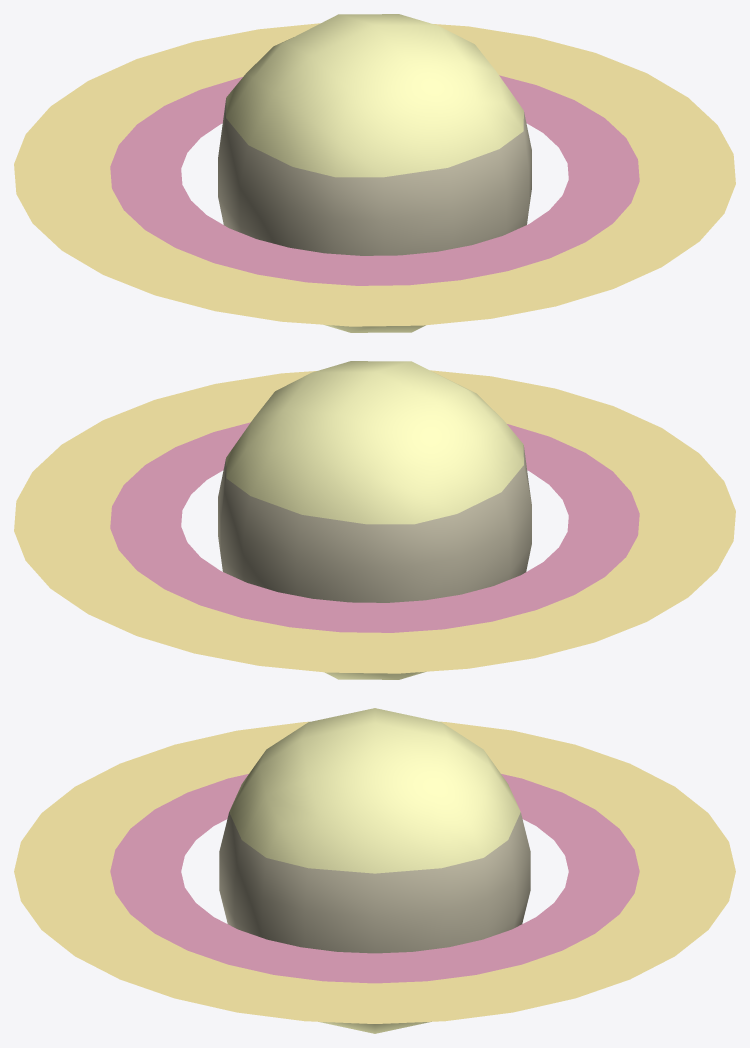
The model's file is SM_Planet_Ringed_02.fbx.
The picture shows the model from 3 angles, top to bottom: view 1: azimuth 30°, elevation 25°; view 2: azimuth 150°, elevation 25°; view 3: azimuth 270°, elevation 25°; orthographic projection.
Parts seen in each view (by area): view 1: SM_Planet_Ringed_02; view 2: SM_Planet_Ringed_02; view 3: SM_Planet_Ringed_02.
Part boxes in pixels (left/top/right/bottom): SM_Planet_Ringed_02: left=14, top=14, right=735, bottom=332; SM_Planet_Ringed_02: left=14, top=361, right=735, bottom=679; SM_Planet_Ringed_02: left=14, top=708, right=735, bottom=1033.
Bounding box in the file's own units: 227 × 103 × 227.
